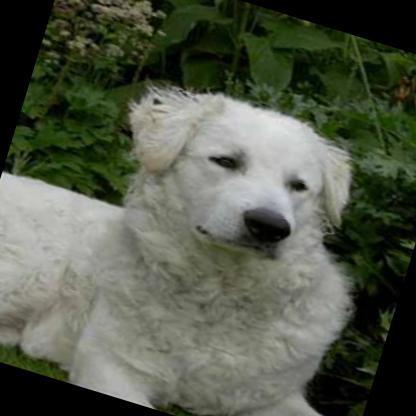kuvasz: (0, 34, 416, 416)
